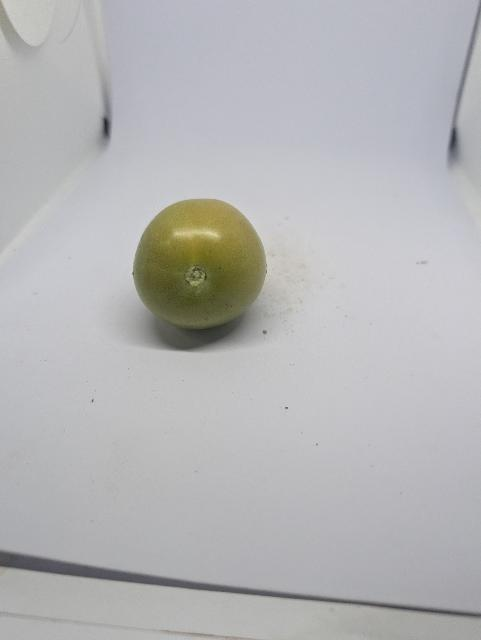green: (122, 170, 276, 347)
